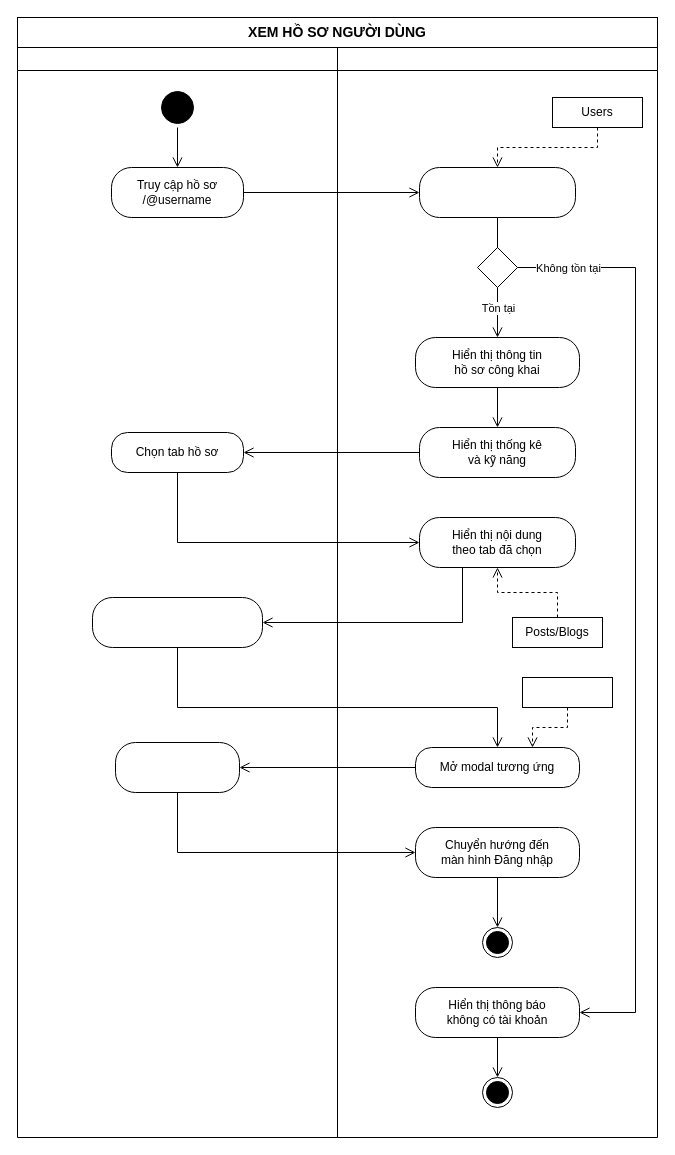
The diagram is 675 pixels wide and 1155 high, and some of its shapes have lost their labels. Here are the shapes that lost their labels. From the top down, the box of each, then its label:
(418, 166, 576, 218): Tra cứu tài khoản đang hoạt động
(16, 46, 338, 1138): Khách
(336, 46, 658, 1138): Hệ thống
(92, 596, 262, 648): Xem danh sách theo dõi hoặc links
(522, 676, 612, 708): Follows
(114, 742, 240, 792): Nhấn Theo dõi nếu cần
